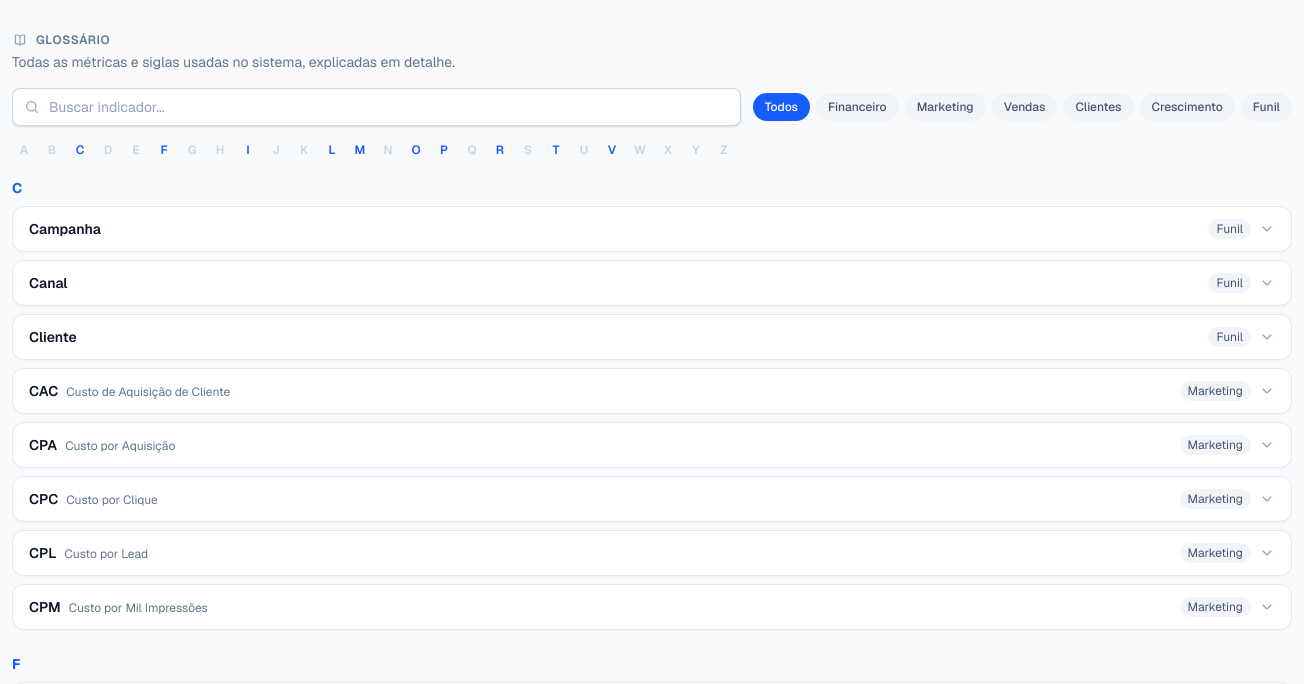
GlossaryPage › filtro de categoria mostra so metricas daquela categoria
Click the button "Financeiro" at point(857, 107), box 816,93 -> 899,121
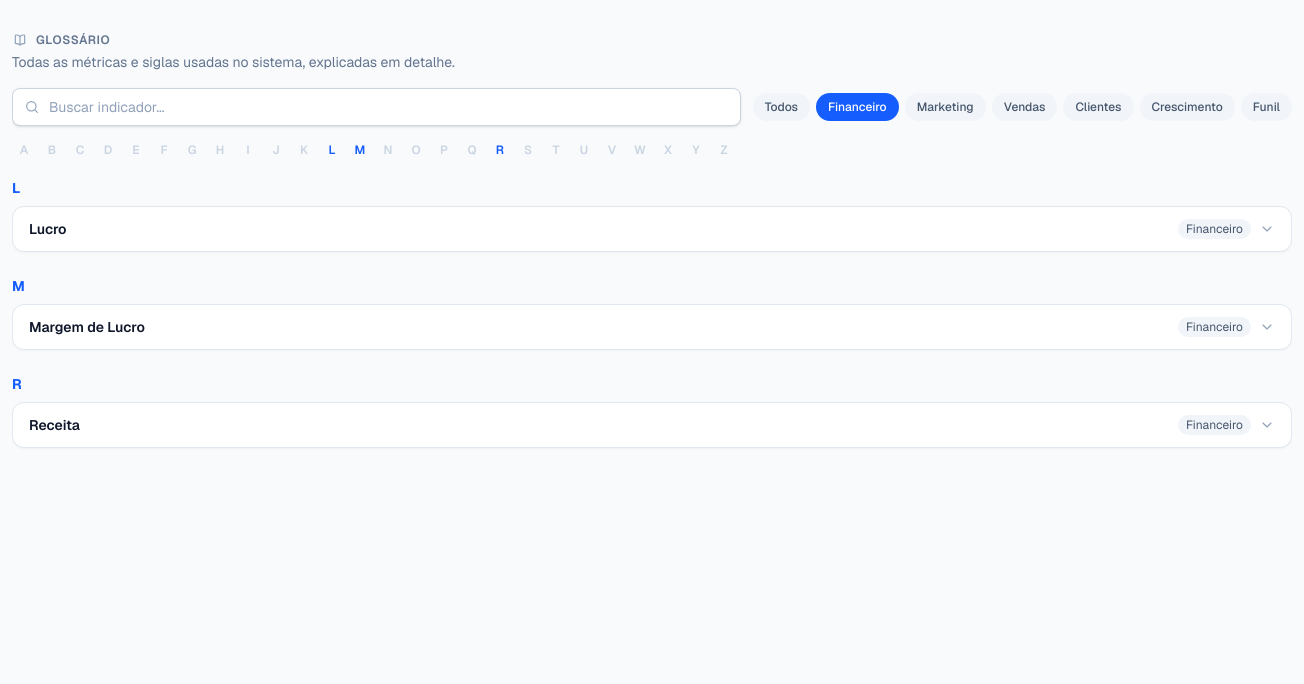
Expected: the text "Margem de Lucro" is shown, 29,317 -> 145,337
Now the button "CAC" is gone
